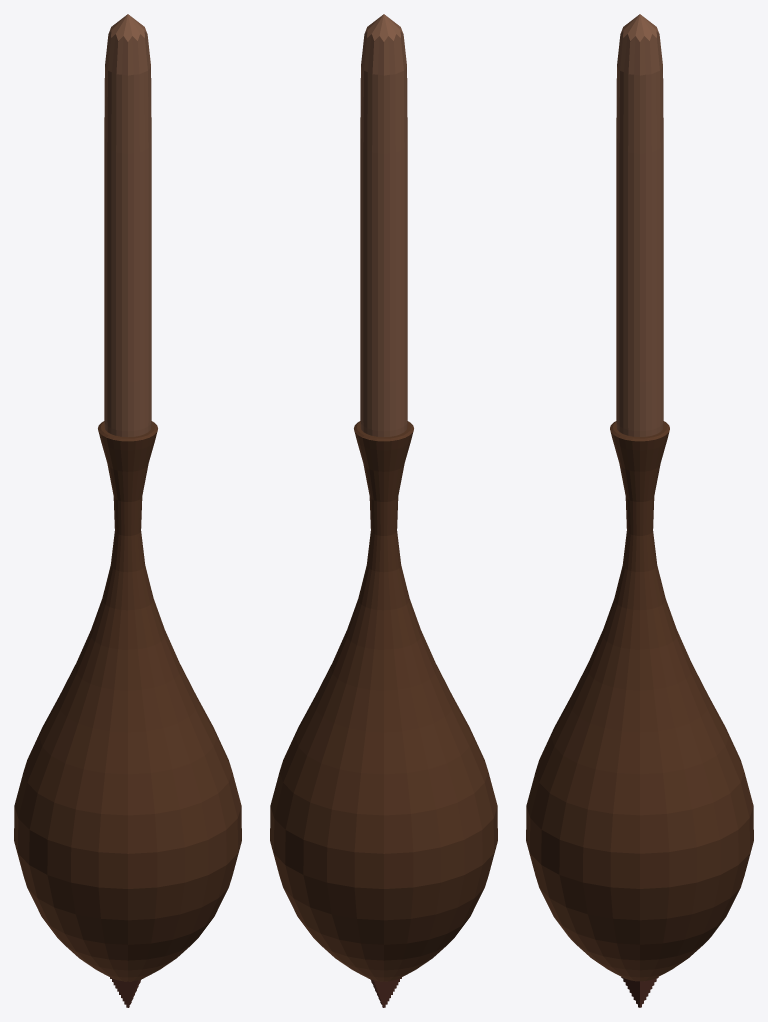
The model's file is Wand 914.glb.
The picture shows the model from 3 angles, left to right: view 1: azimuth 30°, elevation 25°; view 2: azimuth 150°, elevation 25°; view 3: azimuth 270°, elevation 25°; orthographic projection.
Visible parts, largest first — view 1: GeneratedWand; view 2: GeneratedWand; view 3: GeneratedWand.
Part boxes in pixels (x1=…): GeneratedWand: x1=14, y1=14, x2=241, y2=1007; GeneratedWand: x1=270, y1=14, x2=497, y2=1007; GeneratedWand: x1=526, y1=14, x2=753, y2=1007.
Size of the model in its own units: 0.1026 by 0.4932 by 0.1026.
